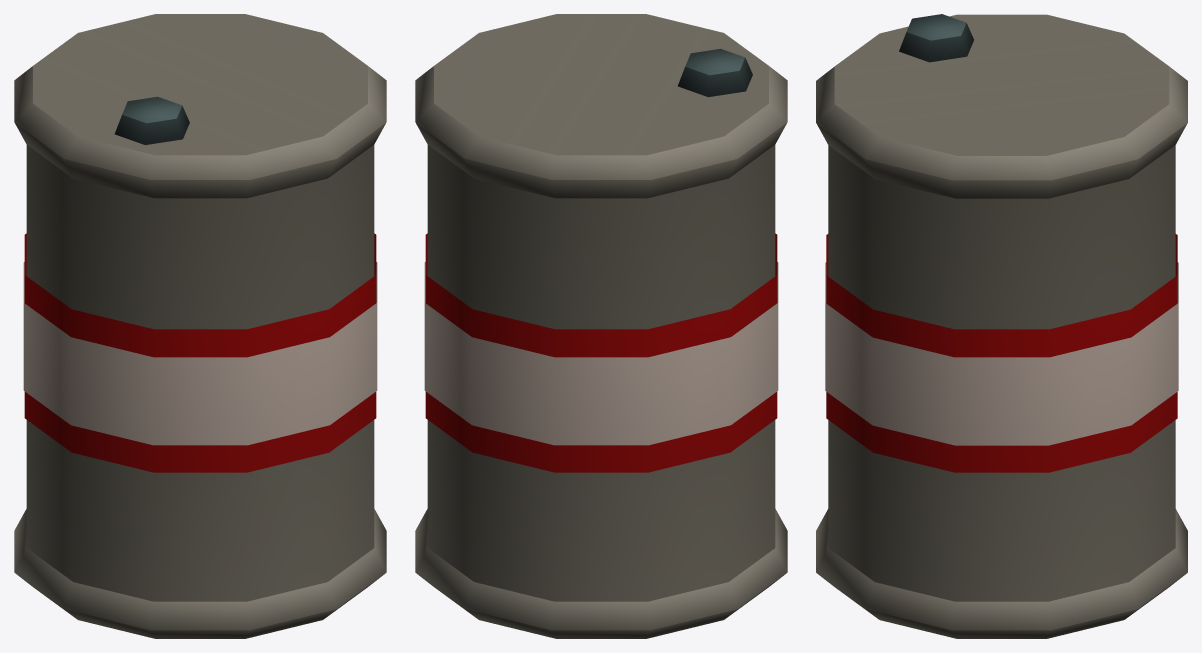
File: Barrel_1D.fbx
The picture shows the model from 3 angles, left to right: view 1: azimuth 30°, elevation 25°; view 2: azimuth 150°, elevation 25°; view 3: azimuth 270°, elevation 25°; orthographic projection.
Visible parts, largest first — view 1: Barrel_1D; view 2: Barrel_1D; view 3: Barrel_1D.
Part boxes in pixels (x1,y1,x2,y2): Barrel_1D: [14, 14, 386, 638]; Barrel_1D: [415, 14, 787, 638]; Barrel_1D: [816, 14, 1187, 638].
Size of the model in its own units: 0.8369 by 1.25 by 0.8369.
